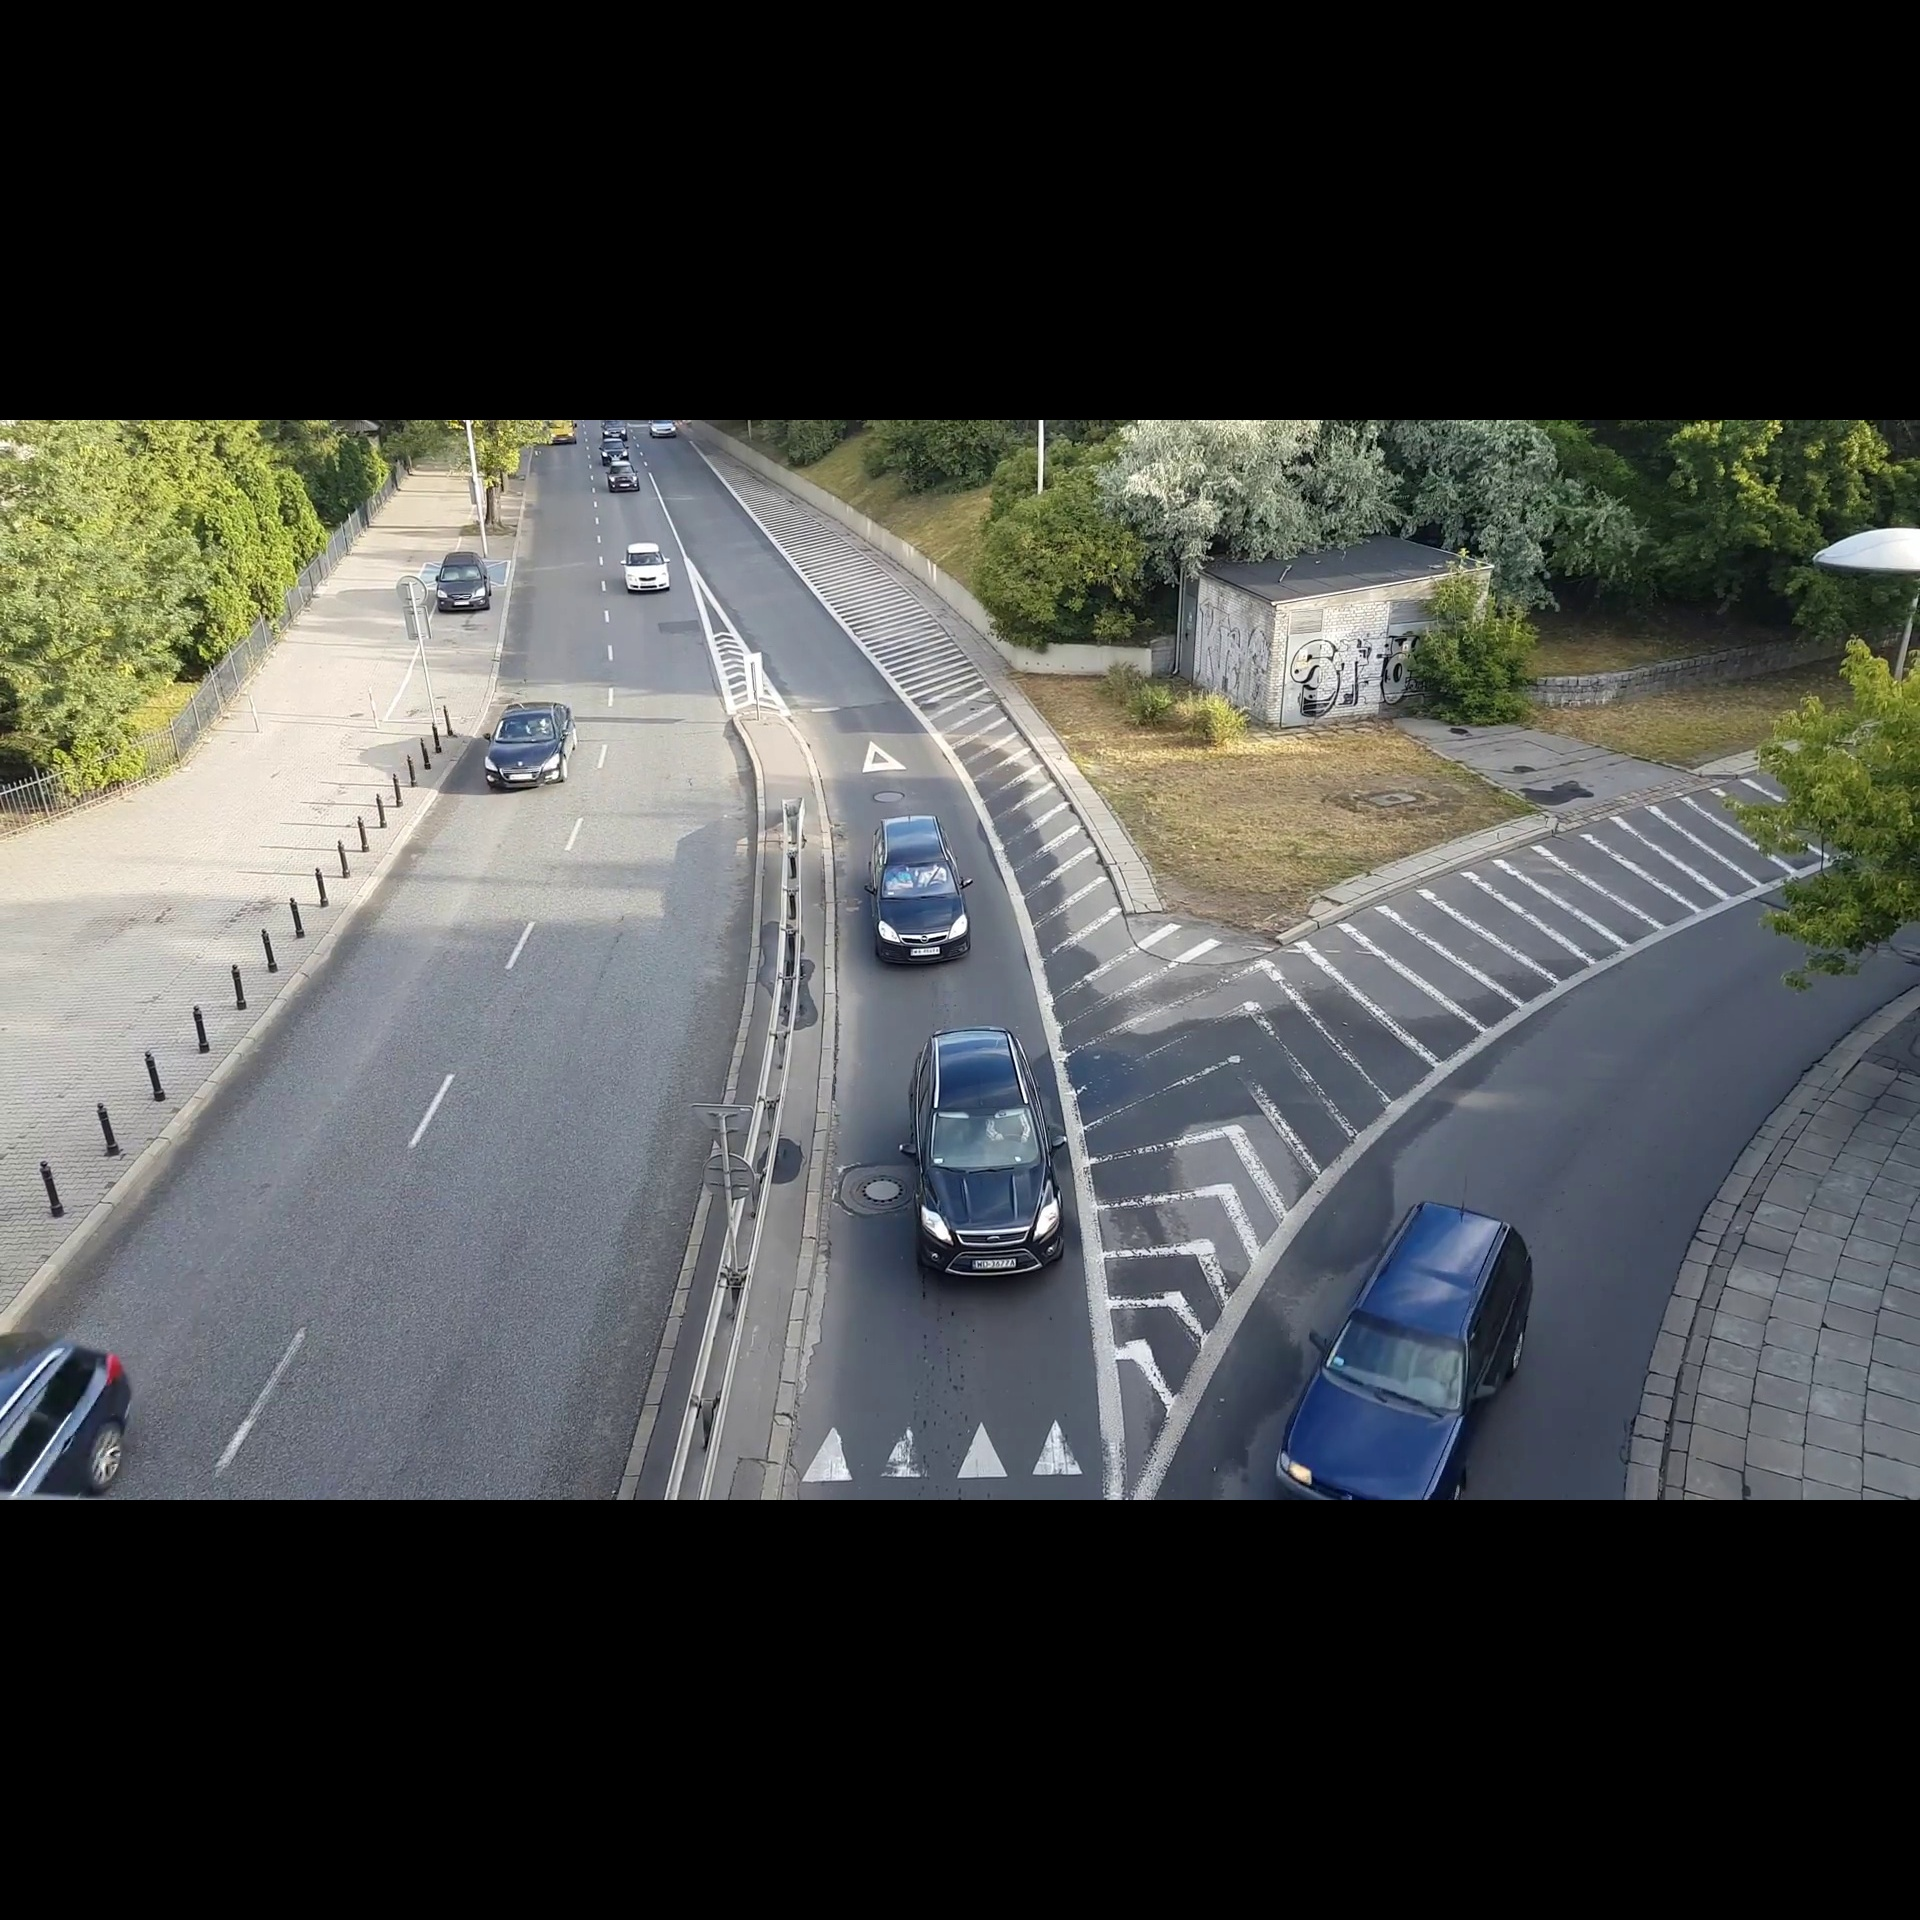vehicle: (1269, 1196, 1542, 1502), (895, 1011, 1071, 1289), (2, 1317, 141, 1498), (860, 798, 983, 971), (476, 695, 580, 798), (427, 540, 496, 619), (617, 529, 672, 594), (605, 461, 642, 494), (547, 420, 578, 447), (600, 438, 629, 462), (600, 420, 629, 441), (647, 420, 679, 440)
